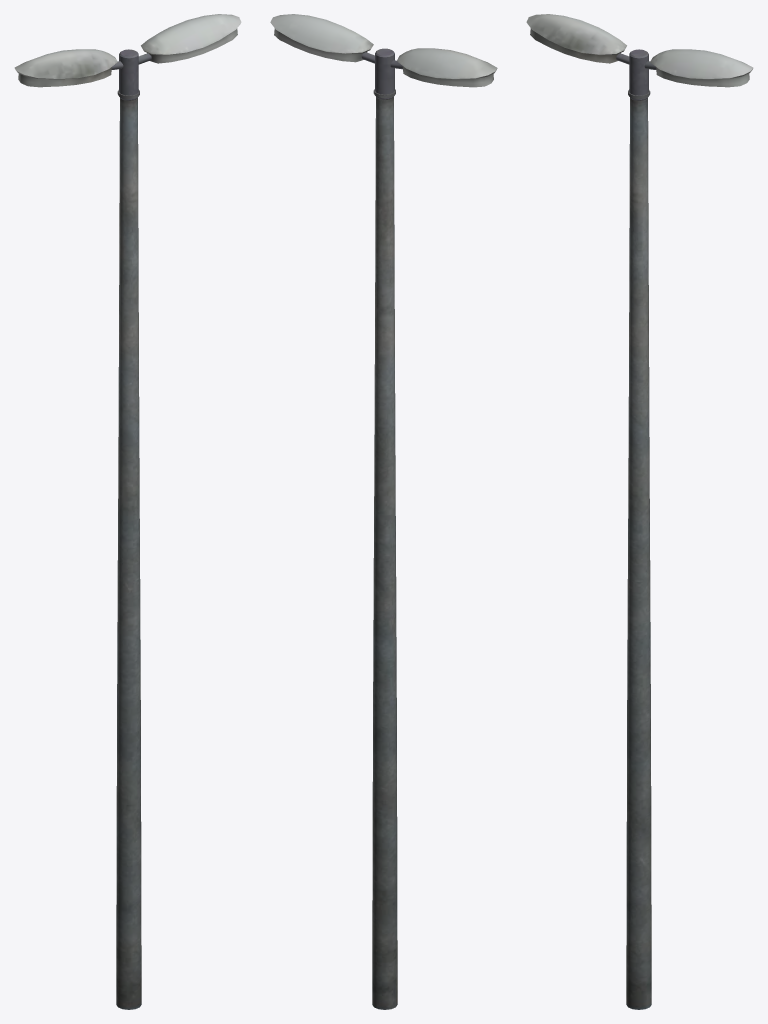
File: lamppost_double.glb
3 views of the same model, side by side, from view 1: azimuth 30°, elevation 25°; view 2: azimuth 150°, elevation 25°; view 3: azimuth 330°, elevation 25° (orthographic).
Parts seen in each view (by area): view 1: body; view 2: body; view 3: body.
Part boxes in pixels (box(x1,y1,x2,y2)): body: box(14, 14, 241, 1009); body: box(270, 14, 497, 1009); body: box(526, 14, 753, 1009).
Bounding box in the file's own units: 3.6 × 15 × 0.6995.
Materials: 2 (2 with a texture image).
